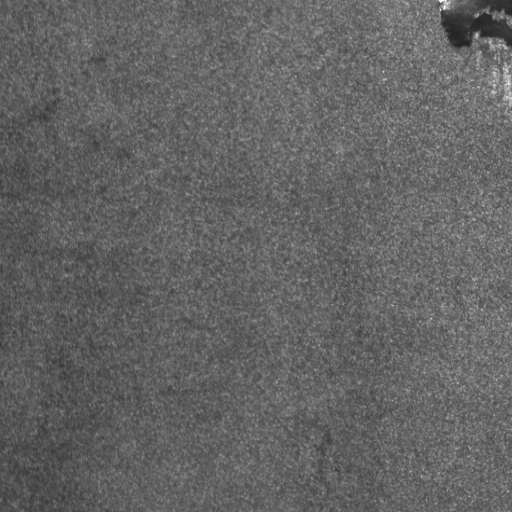qiaopi: (436, 1, 512, 50)
